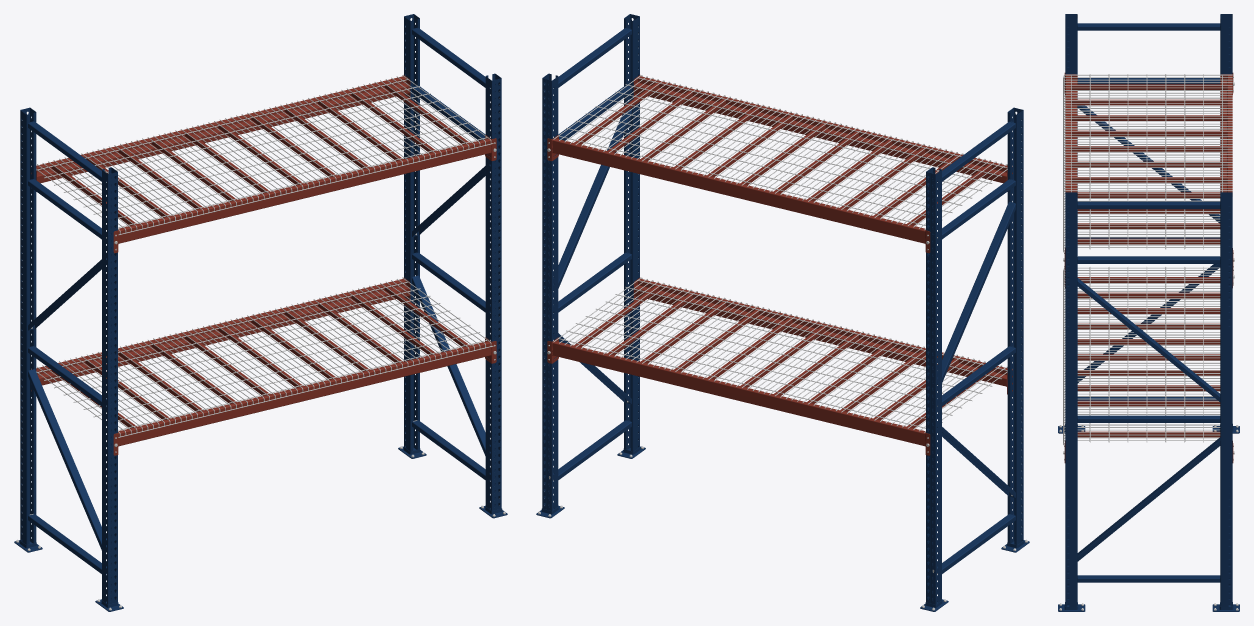
File: rack_h3m_s02.glb
3 renders of one model, left to right at view 1: azimuth 30°, elevation 25°; view 2: azimuth 150°, elevation 25°; view 3: azimuth 270°, elevation 25°, orthographic. The views are drawn at different scales.
Parts seen in each view (by area): view 1: sm_rack_h3m_s02_mesh_00; view 2: sm_rack_h3m_s02_mesh_00; view 3: sm_rack_h3m_s02_mesh_00.
Part boxes in pixels (left/top/right/bottom): sm_rack_h3m_s02_mesh_00: left=14, top=14, right=507, bottom=611; sm_rack_h3m_s02_mesh_00: left=536, top=14, right=1029, bottom=611; sm_rack_h3m_s02_mesh_00: left=1058, top=14, right=1239, bottom=611.
Bounding box in the file's own units: 2.88 × 3 × 1.2.
